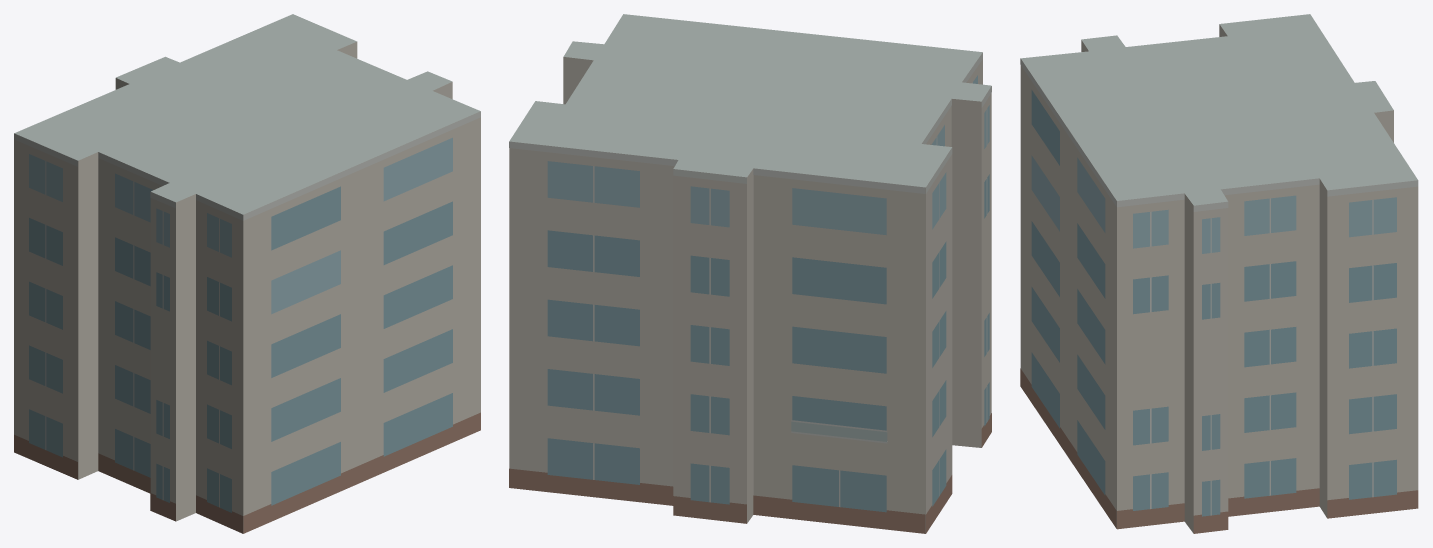
File: survey-upis-32705752.glb
3 renders of one model, left to right at view 1: azimuth 30°, elevation 25°; view 2: azimuth 150°, elevation 25°; view 3: azimuth 270°, elevation 25°, orthographic. The views are drawn at different scales.
Visible parts, largest first — view 1: survey-upis-32705752.tmp; view 2: survey-upis-32705752.tmp; view 3: survey-upis-32705752.tmp.
Part boxes in pixels (x1,y1,x2,y2): survey-upis-32705752.tmp: [14, 14, 480, 533]; survey-upis-32705752.tmp: [509, 14, 991, 533]; survey-upis-32705752.tmp: [1020, 14, 1418, 533].
Size of the model in its own units: 15.98 by 12.75 by 14.01.
